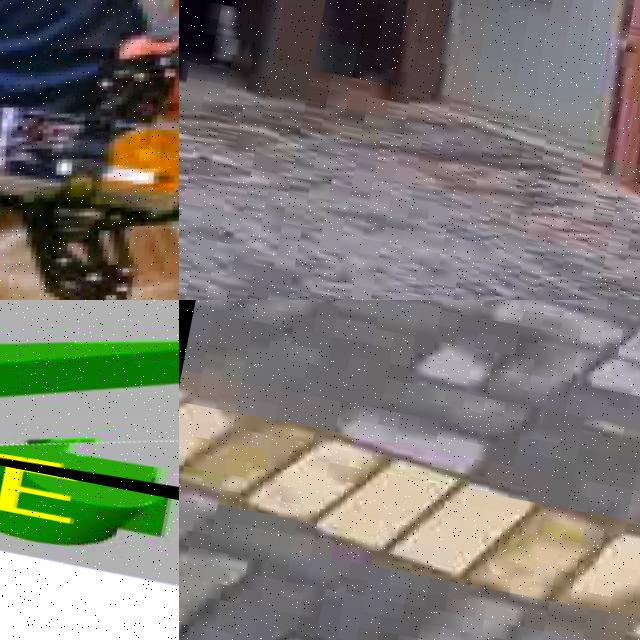drone: (0, 0, 179, 300), (0, 300, 179, 542)
